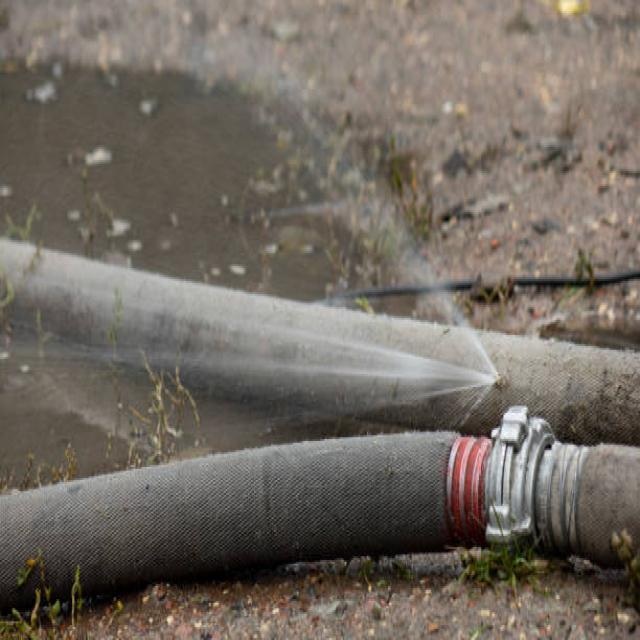pipe burst: (55, 106, 513, 414)
